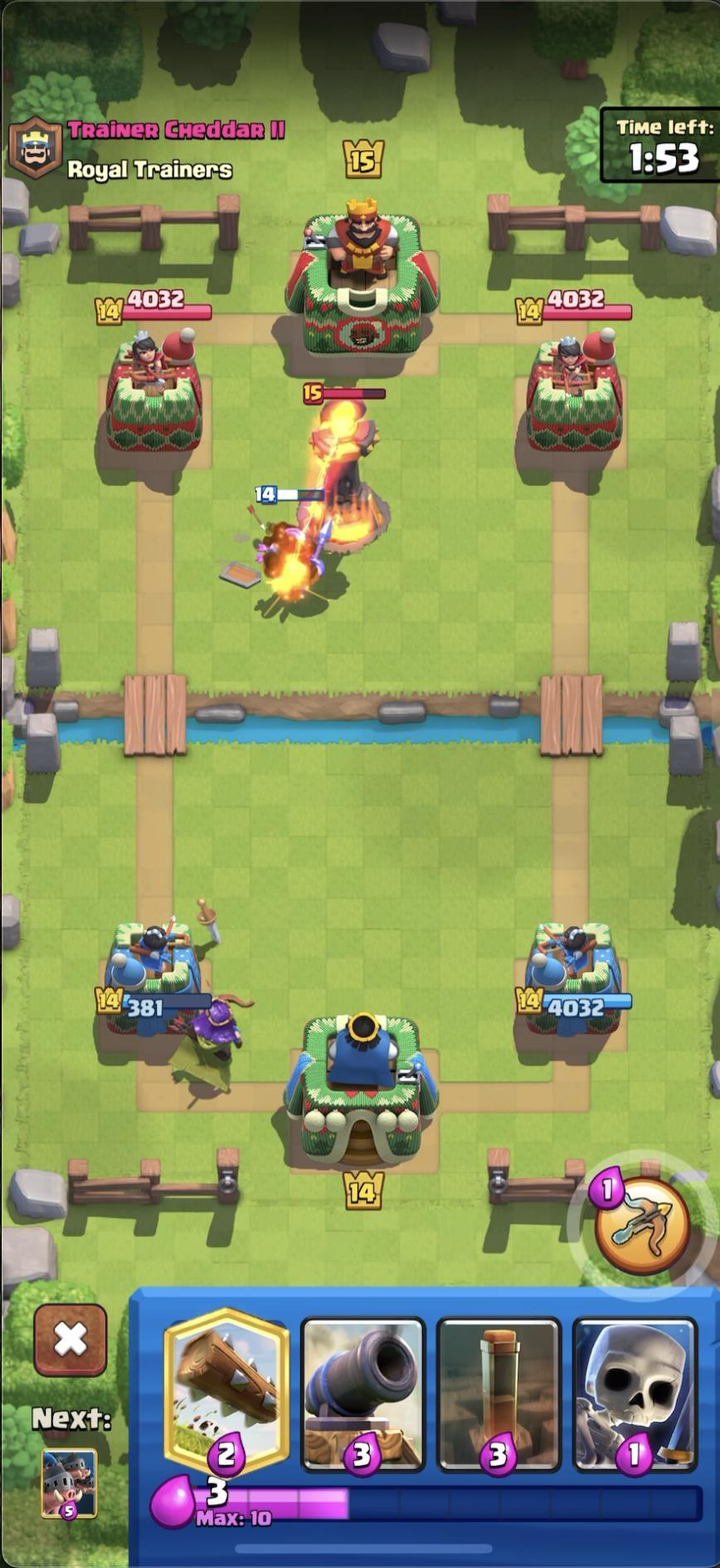card_cannon: (300, 1312, 428, 1476)
card_earthquake: (437, 1315, 560, 1477)
card_log: (153, 1303, 294, 1478)
card_royalhogs: (37, 1446, 102, 1524)
card_skeletons: (569, 1312, 698, 1472)
